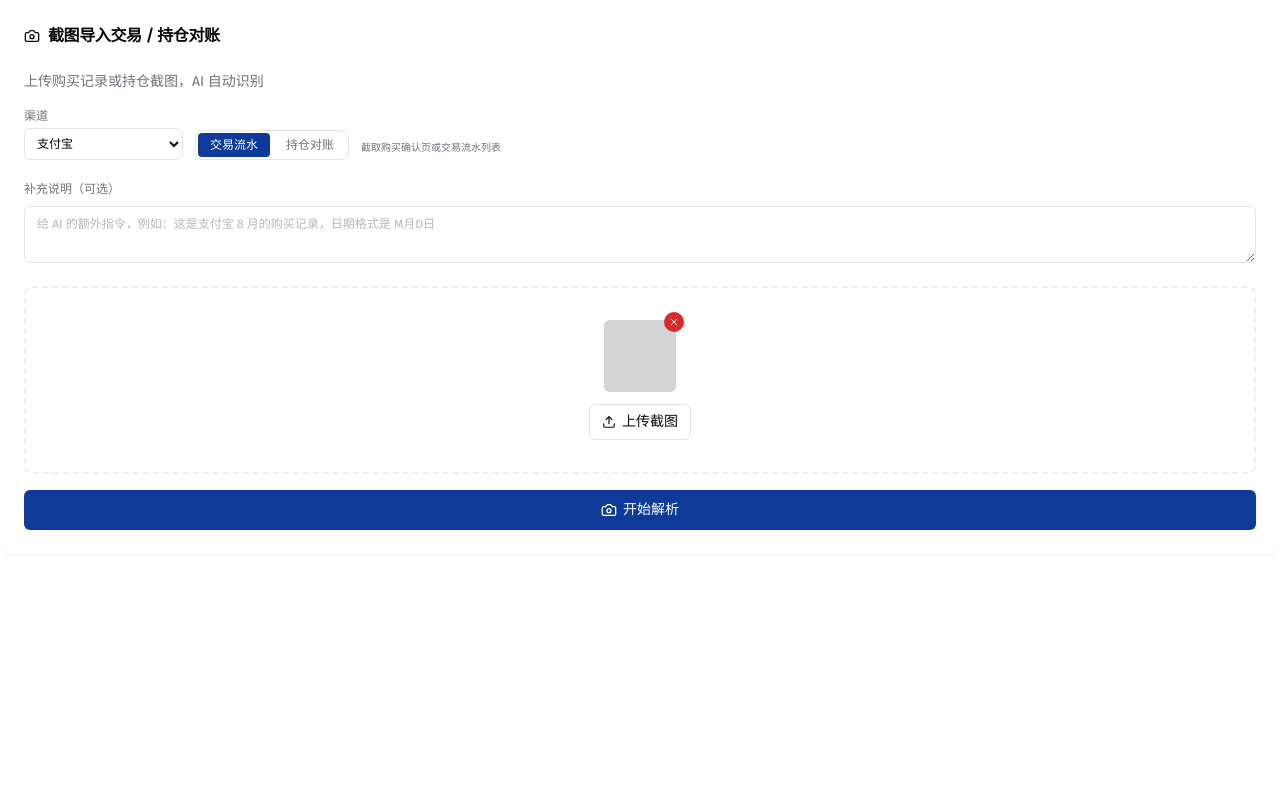
Test: ScreenshotImportPanel 导入完整性校验 › 残缺行不计入有效数、不被导入，并显示按操作类型的提示
Earlier steps of the test are not shown.
Later steps or results of the test are not shown.
Click the button "开始解析". click: (640, 510)
box: [24,490,1256,530]
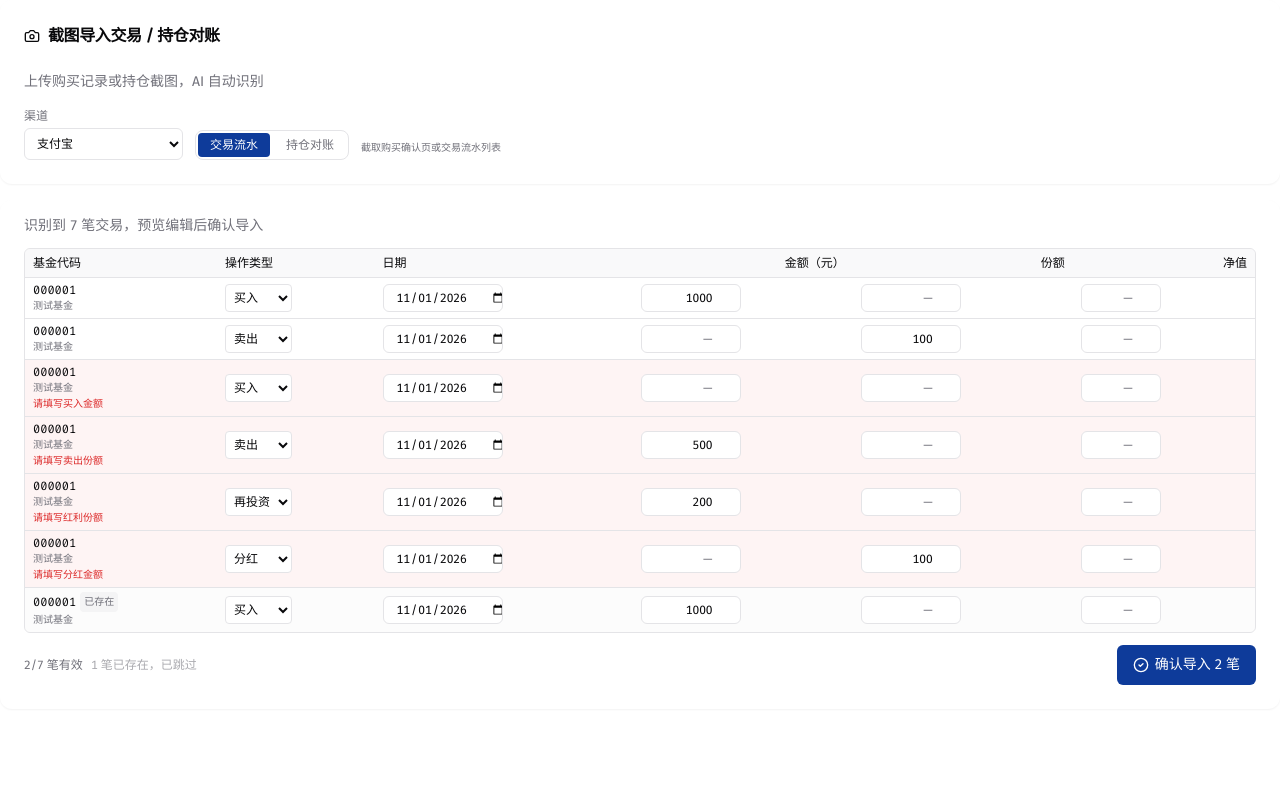
Expected: the text "识别到 7 笔交易，预览编辑后确认导入" is shown, [24,217,263,234]
Expected: the text "2/7 笔有效" is shown, [24,658,83,672]
Expected: the button "确认导入 2 笔" is shown, [1117,645,1256,685]
